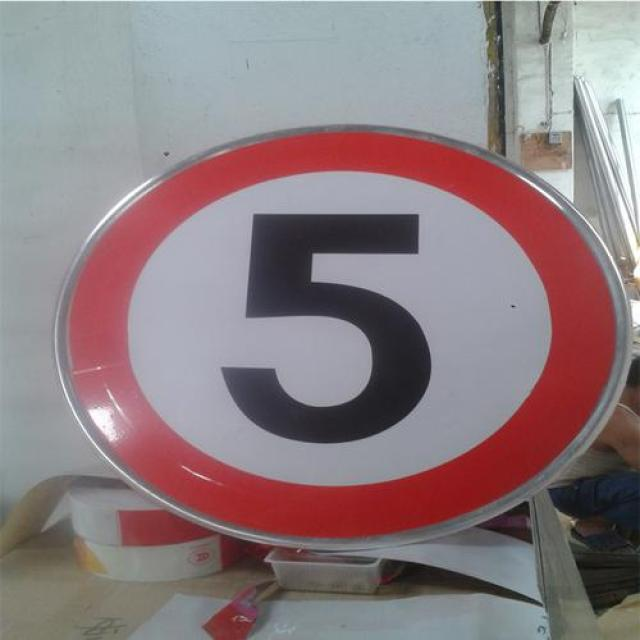speed limit 10: (52, 124, 634, 549)
